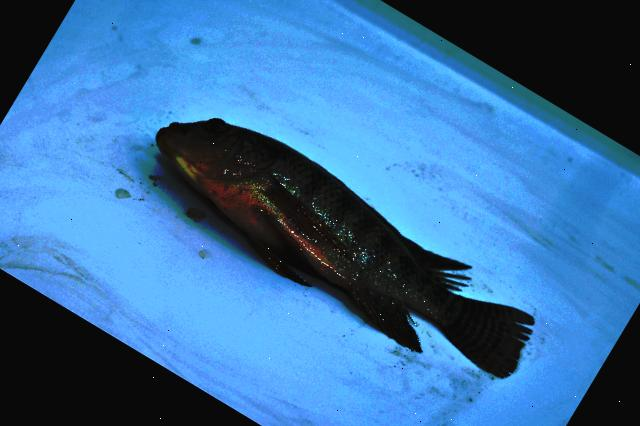Columnaris Disease: (155, 119, 533, 378)
